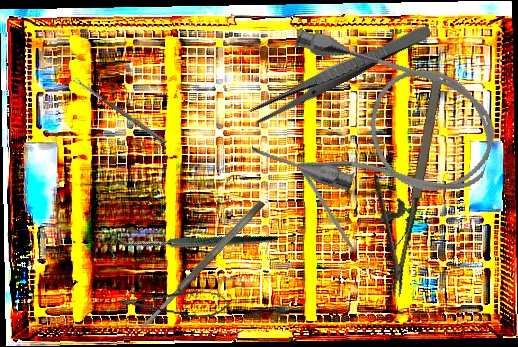Cannula: (247, 24, 509, 226)
Dressing Forceps: (247, 18, 434, 127)
Hook Surgical: (102, 170, 280, 323)
Micro Scissor: (119, 279, 231, 322)
Needle Holder: (349, 71, 449, 298)
Pusher: (297, 164, 366, 270)
Spatula Surgical: (137, 198, 267, 332)
Surgical Spoon: (72, 76, 168, 145)
